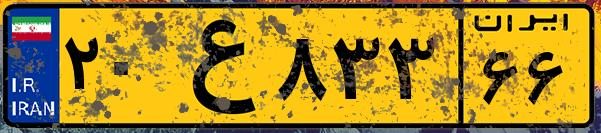0: (110, 28, 158, 98)
2: (57, 26, 110, 100)
3: (385, 28, 445, 110), (330, 28, 385, 110)
6: (475, 38, 525, 113), (525, 38, 570, 115)
8: (270, 28, 330, 110)
ع: (158, 12, 270, 120)
